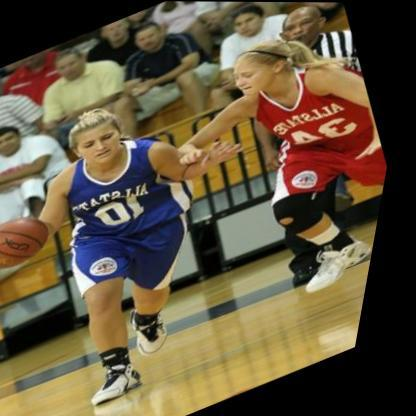basketball: (0, 204, 71, 280)
